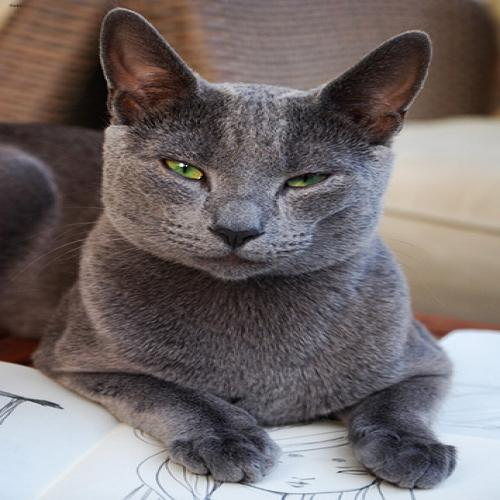rblue: (63, 1, 456, 291)
